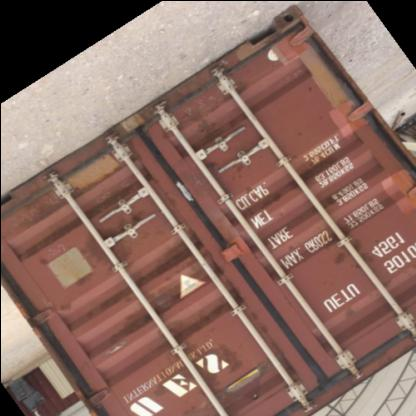Damage: (79, 228, 144, 276), (324, 228, 376, 280), (194, 100, 220, 172), (284, 168, 324, 206)
